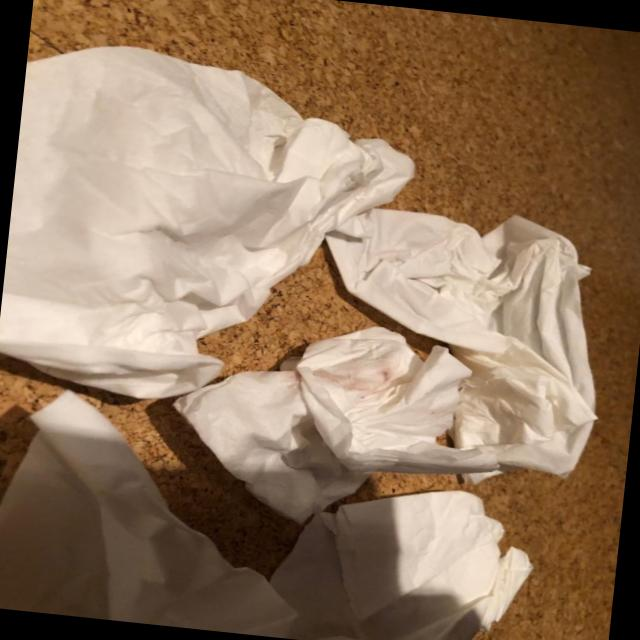organic waste: (0, 36, 426, 431), (299, 194, 640, 497), (148, 305, 512, 548), (0, 380, 317, 639), (261, 470, 542, 640)
